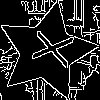X: (21, 26, 74, 69)
